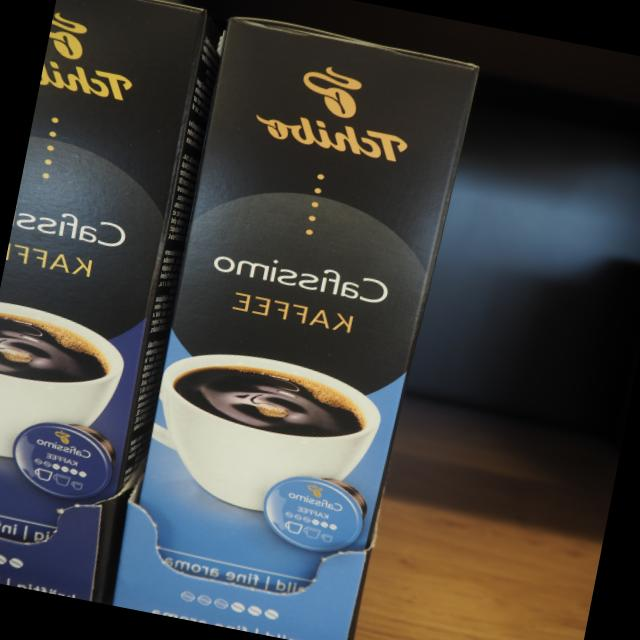Simo Kaffee Mild: (106, 8, 485, 640)
